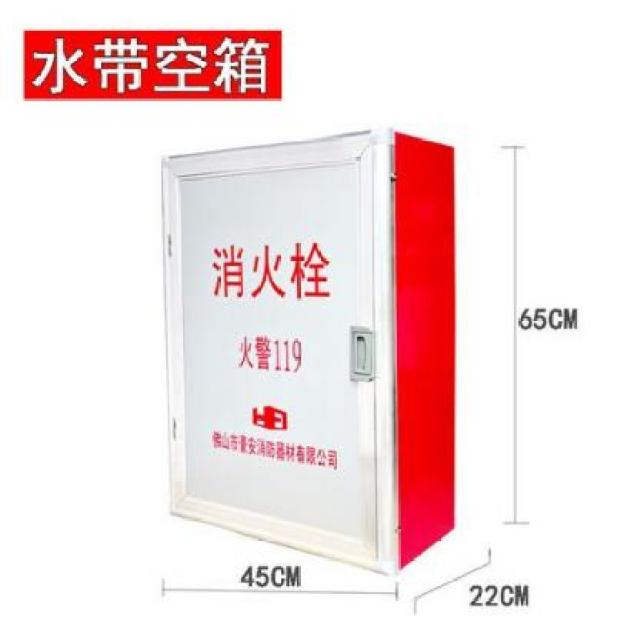firehydrant: (156, 118, 460, 584)
